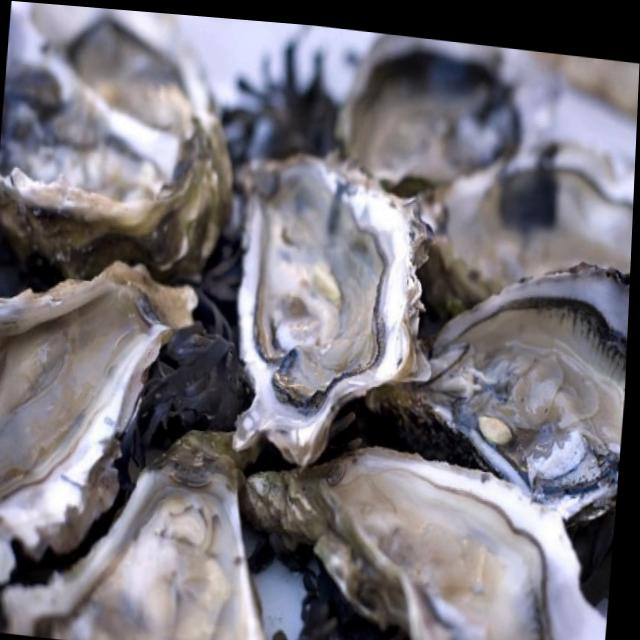Oyster-Open: (359, 251, 631, 566), (219, 134, 449, 476), (241, 435, 607, 640), (0, 249, 208, 594), (0, 1, 237, 293), (0, 422, 278, 640), (412, 127, 636, 326), (328, 32, 579, 201)
